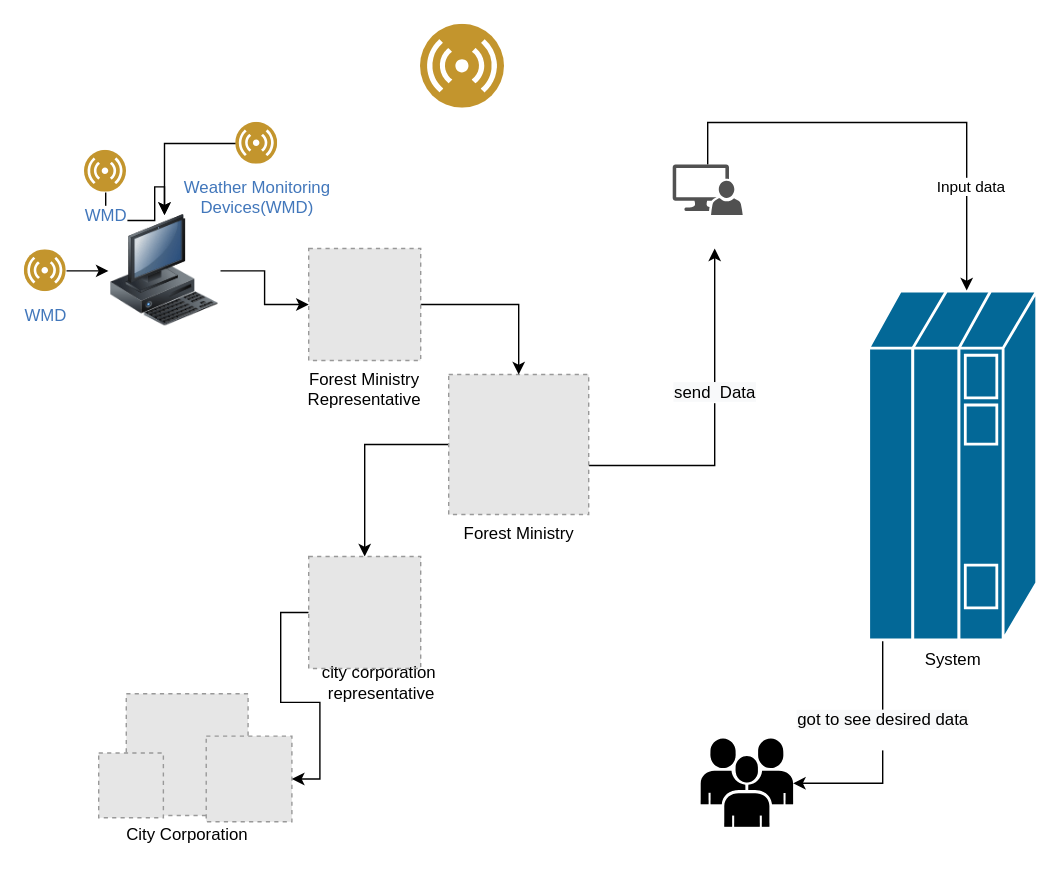
This 1061x879 diagram has some shape labels left out. Grey dashed boxes stand in for pictures. The centre of each missing label's shape, as x and y in pixels:
"Admin" belongs at point 707,189.
"Users" belongs at point 746,782.
"Weather monitoring Devices" belongs at point 462,66.
"Weather Station" belongs at point 164,270.
